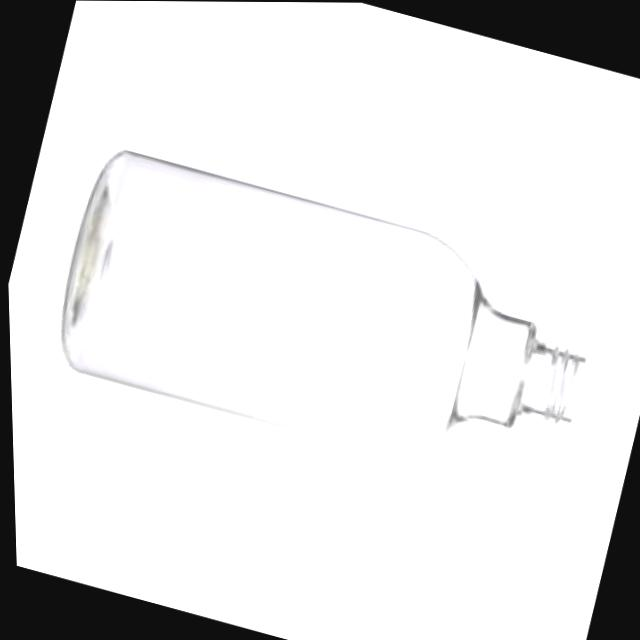anorganik: (14, 96, 638, 532)
